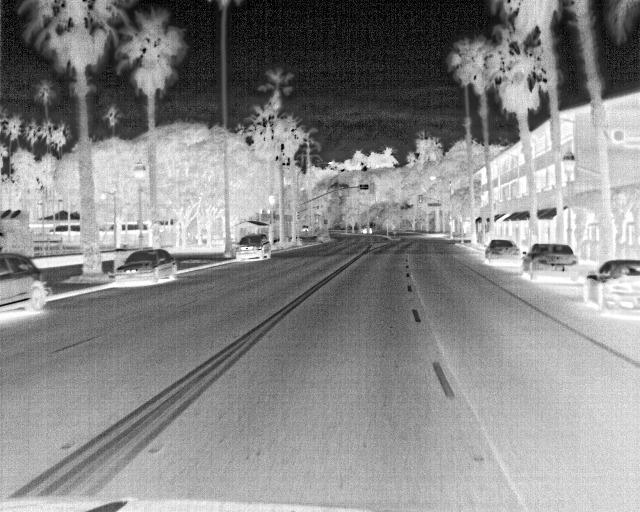car: (0, 252, 50, 315), (585, 257, 639, 314), (112, 249, 177, 286), (522, 242, 580, 280), (235, 232, 271, 262), (485, 237, 522, 264)
